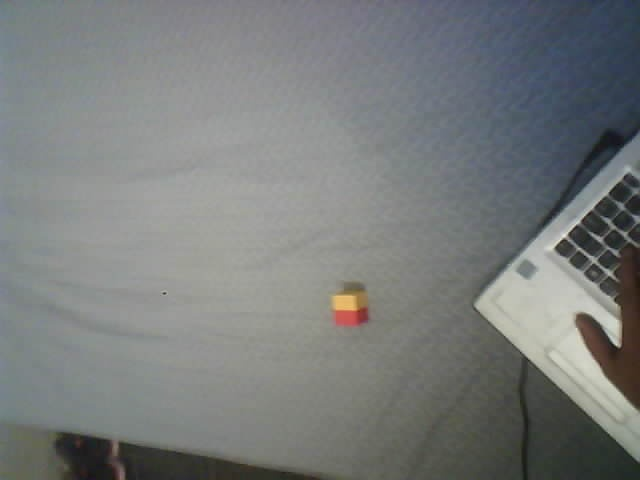lego: (331, 290, 370, 328)
